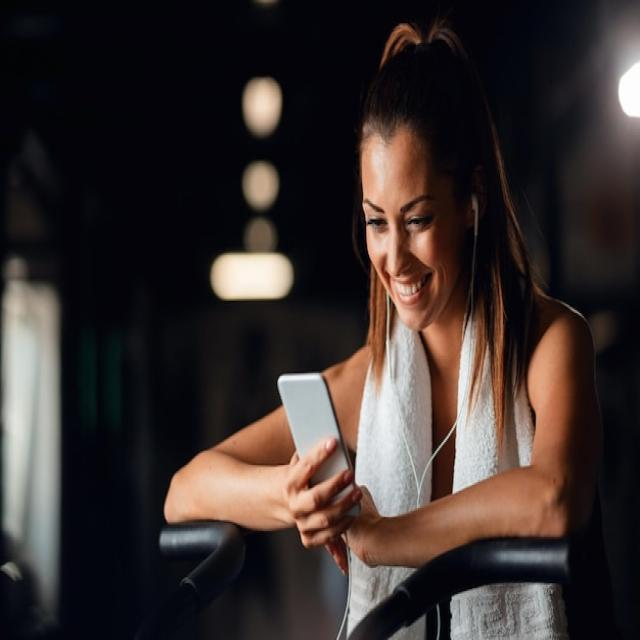Earphone: (382, 189, 480, 511)
